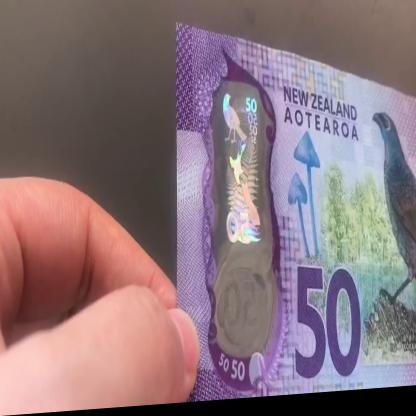50B: (219, 91, 266, 348)
